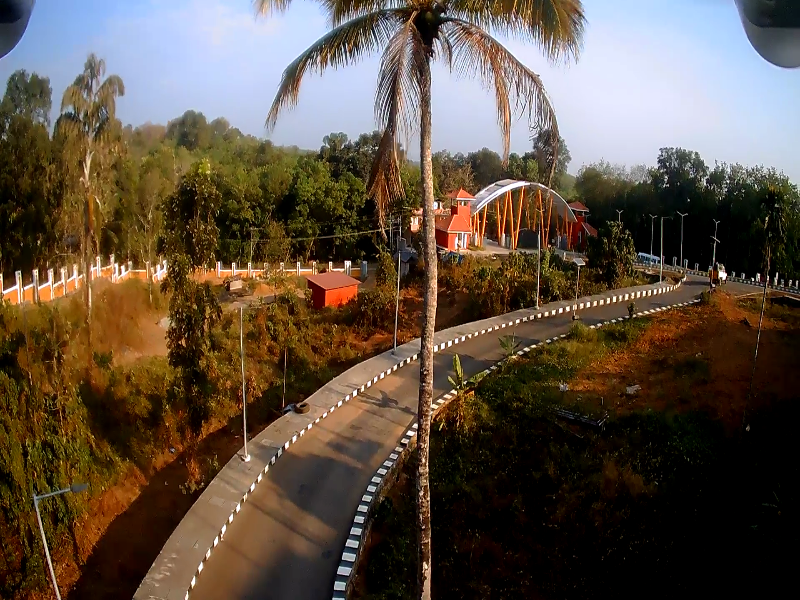coconut: (420, 11, 434, 24)
